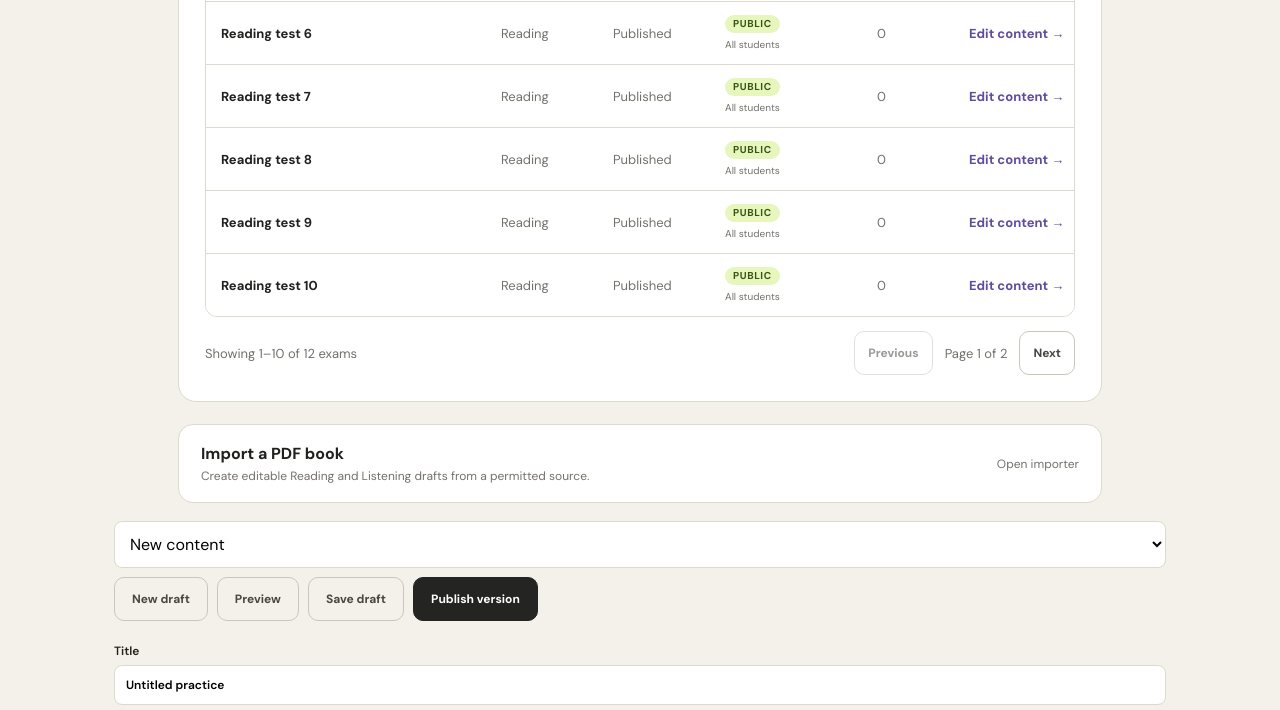
Scenario: paginates a large exam library and reports the visible range
(page scrolled)
Expected: the text "Showing 1–10 of 12 exams" is shown, 205,344 -> 357,362
Click the button "Next".
click(1047, 353)  # box 1019,331 -> 1075,375
(page scrolled)
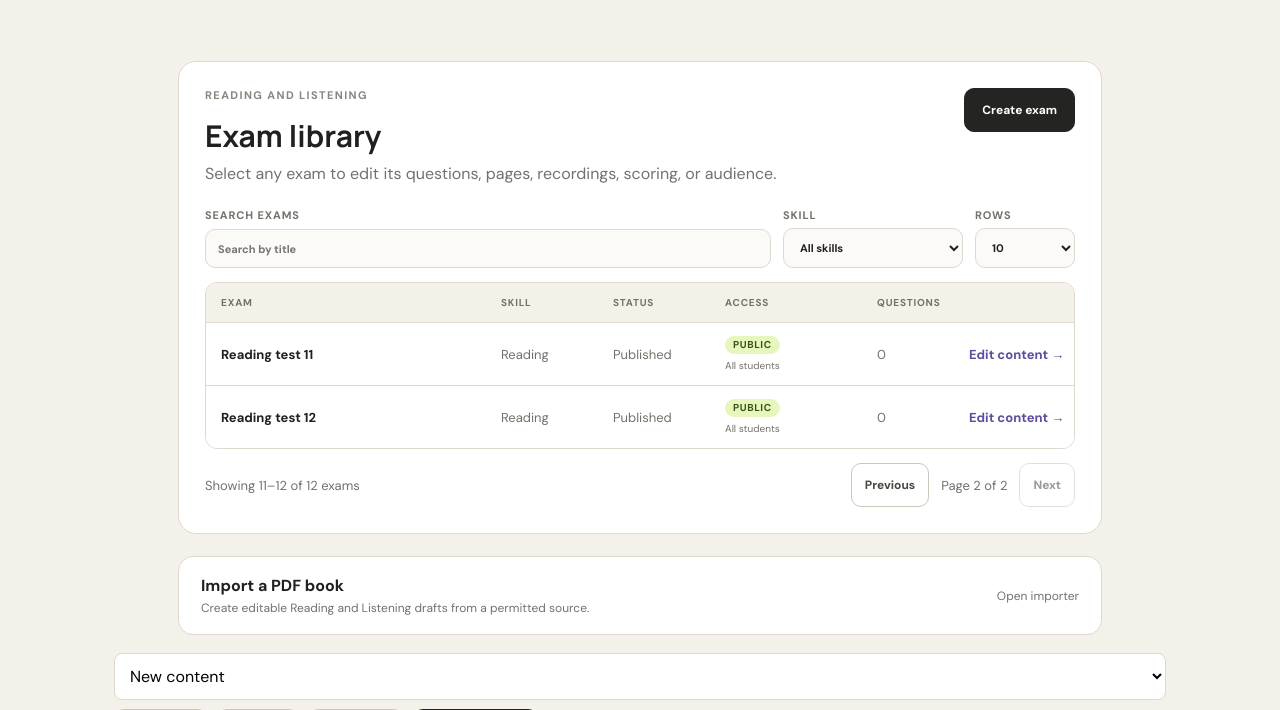
Expected: the text "Showing 11–12 of 12 exams" is shown, 205,476 -> 360,494
Expected: the button with aria-label "Edit Reading test 11" is shown, 206,322 -> 1074,385
